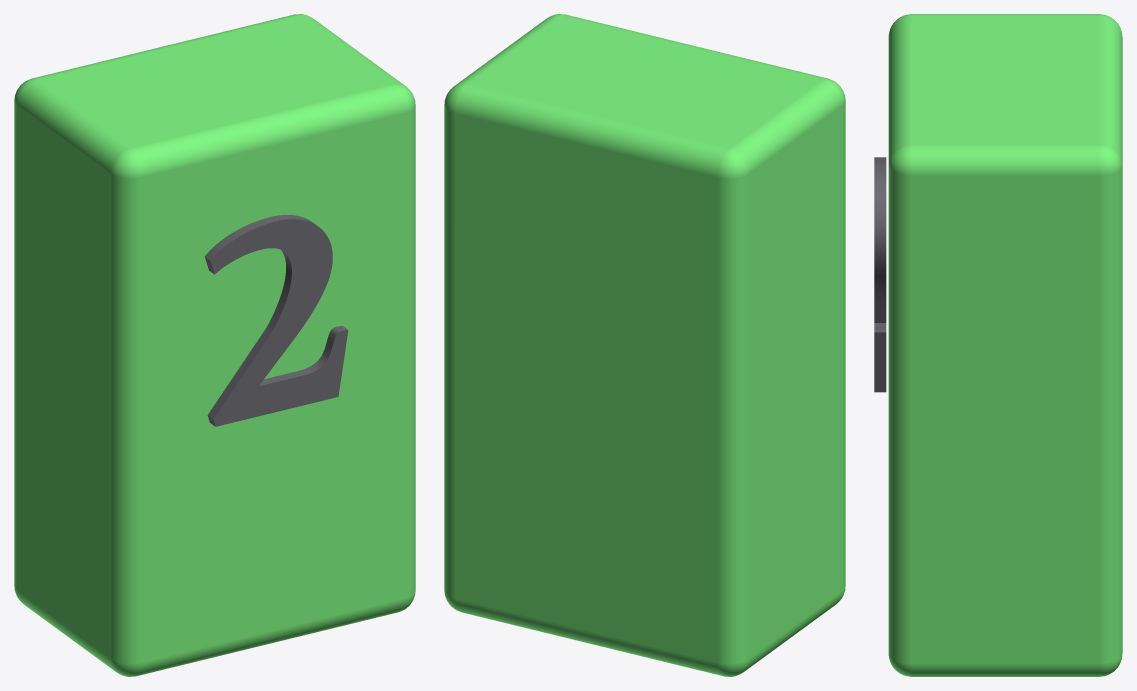
File: pin_2.gltf
3 renders of one model, left to right at view 1: azimuth 30°, elevation 25°; view 2: azimuth 150°, elevation 25°; view 3: azimuth 270°, elevation 25°, orthographic.
Parts seen in each view (by area): view 1: White, Black; view 2: White; view 3: White, Black.
Part boxes in pixels (<box>): White: <box>14,14,415,676</box>; Black: <box>204,215,348,426</box>; White: <box>444,14,845,676</box>; White: <box>888,14,1122,676</box>; Black: <box>874,157,886,392</box>.
Bounding box in the file's own units: 1.5 × 2.5 × 1.06.
